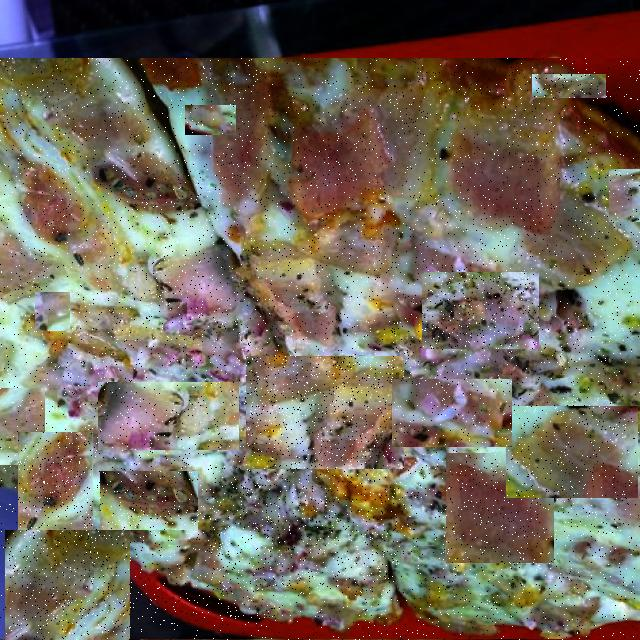Ham: (246, 356, 404, 469), (5, 530, 132, 640), (282, 474, 398, 593), (506, 406, 638, 498), (446, 453, 554, 563), (208, 477, 280, 622), (98, 382, 239, 450), (422, 272, 539, 349), (392, 379, 512, 447), (18, 432, 93, 530), (100, 471, 198, 530), (0, 388, 45, 465), (532, 74, 606, 98), (609, 170, 640, 223), (185, 105, 238, 135), (35, 292, 70, 331)
Pizza: (0, 58, 640, 640)
